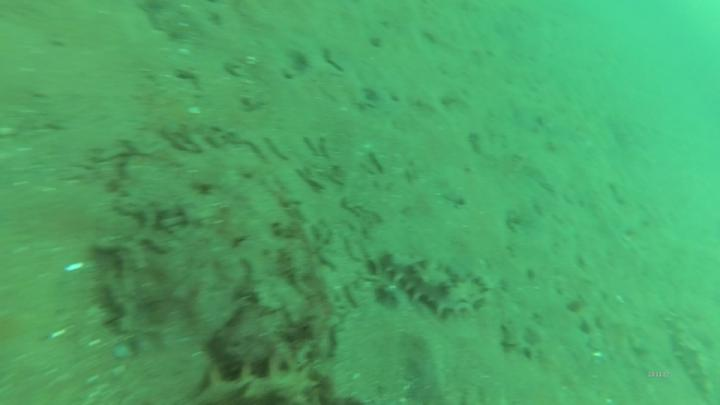holothurian: (383, 250, 486, 318), (195, 352, 323, 405)
